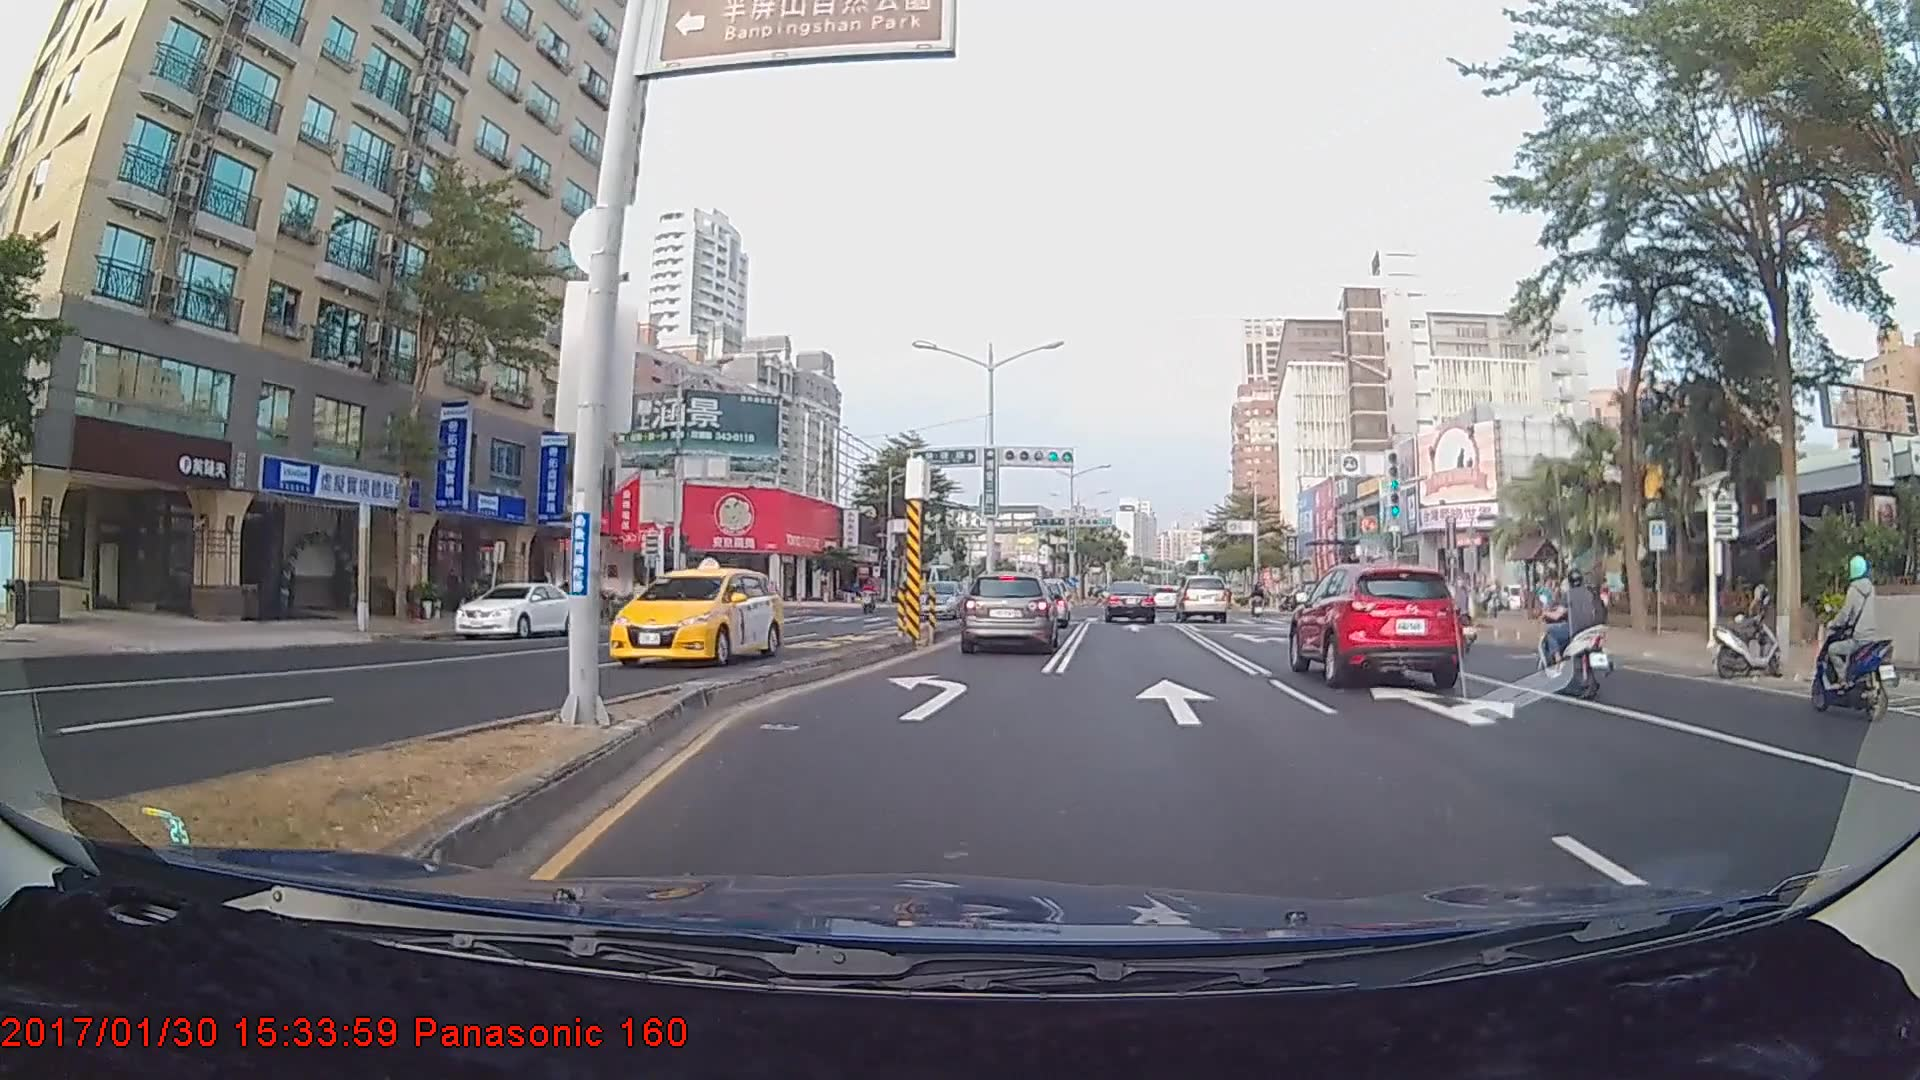rider: (1810, 553, 1899, 733), (1532, 565, 1617, 699)
vehicle: (1290, 556, 1464, 689), (607, 566, 783, 666), (960, 572, 1057, 653), (455, 579, 579, 641), (1175, 576, 1229, 623), (1102, 581, 1155, 625), (912, 579, 967, 618)
